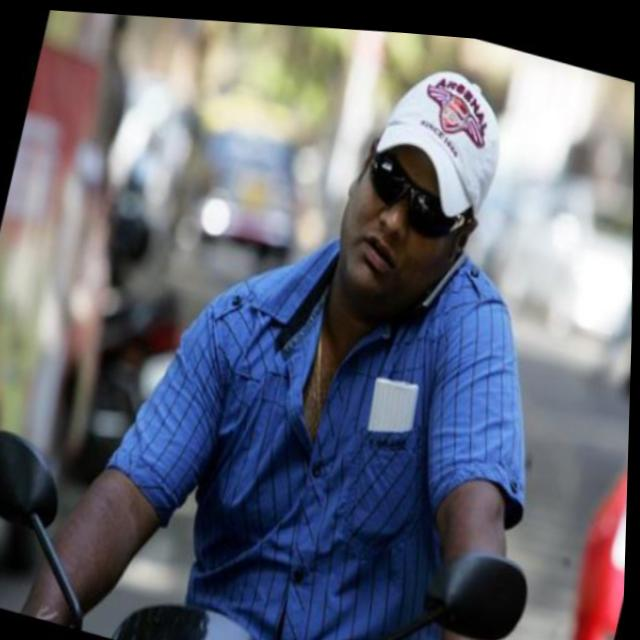USING_MOBILE: (316, 32, 519, 337)
